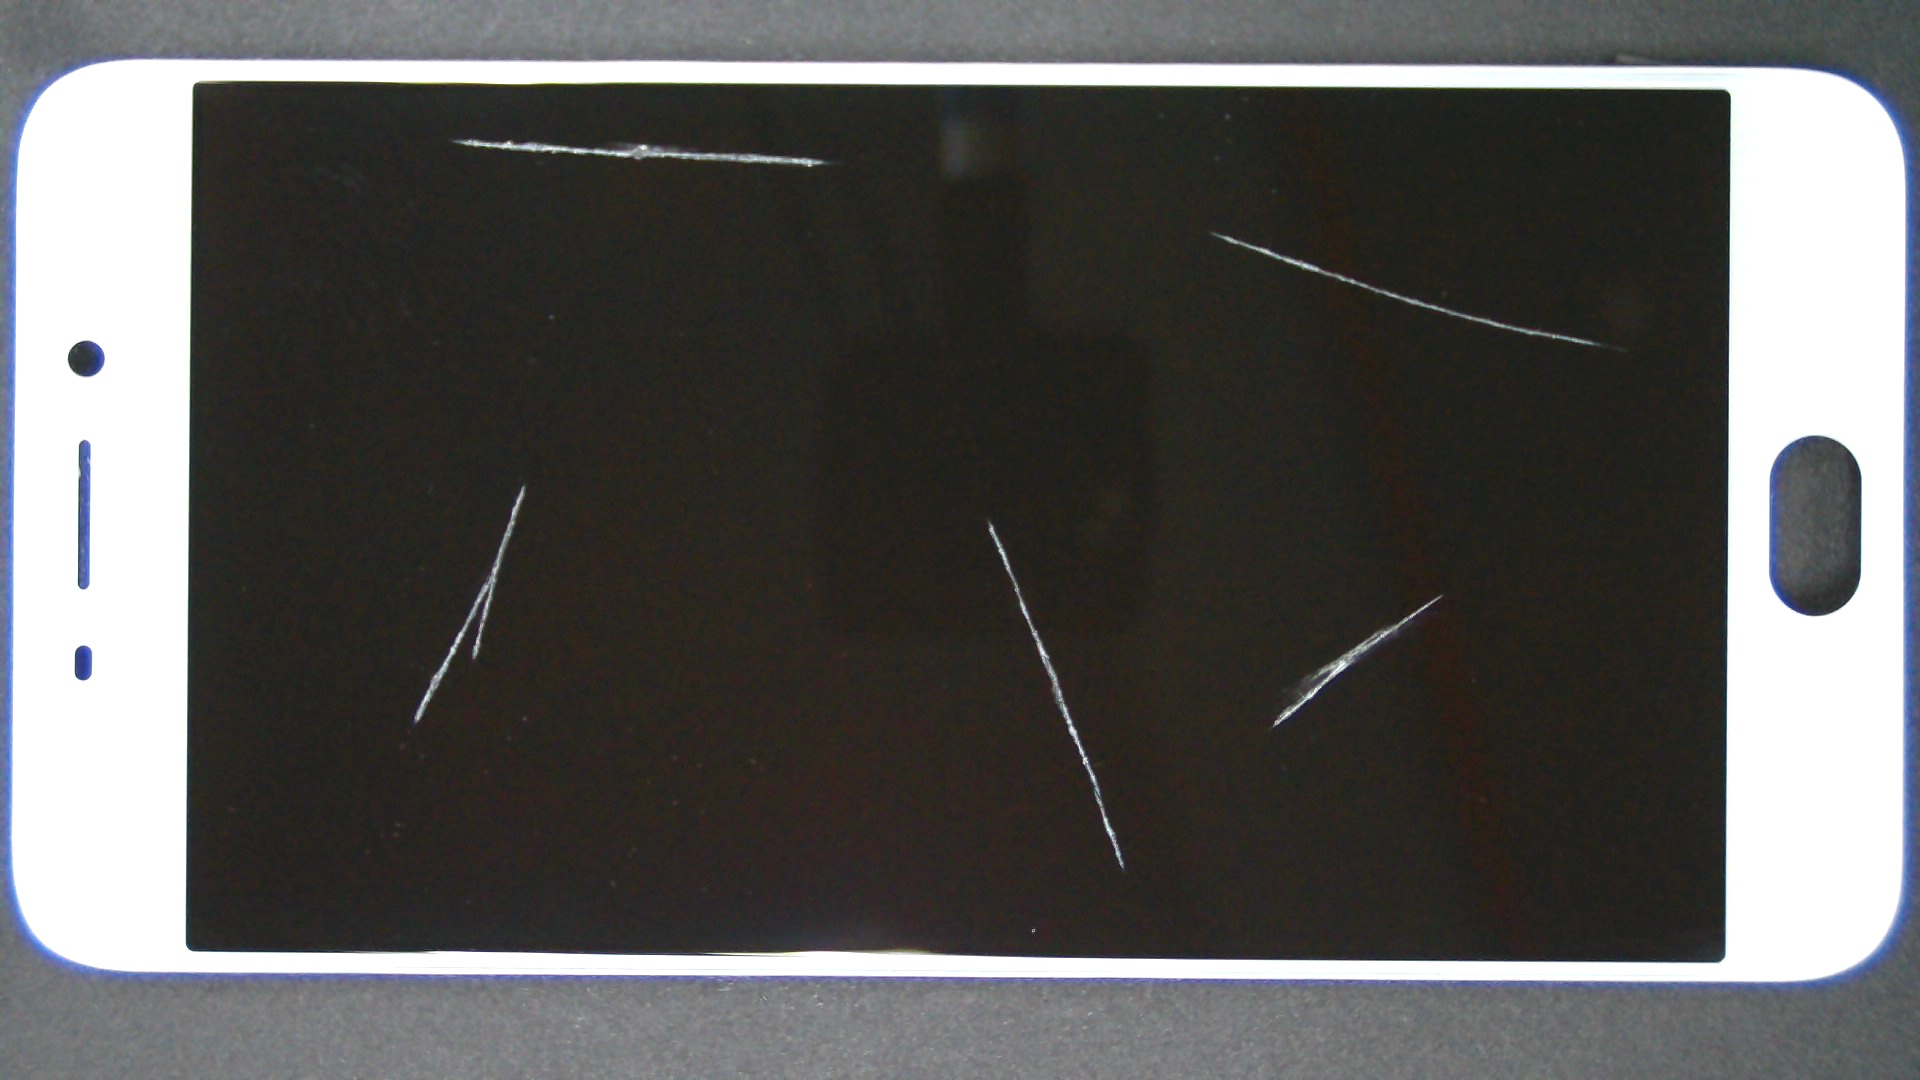oil: (720, 297, 1920, 891), (495, 260, 1484, 781), (607, 115, 1816, 345), (262, 241, 783, 727), (236, 69, 705, 206)
